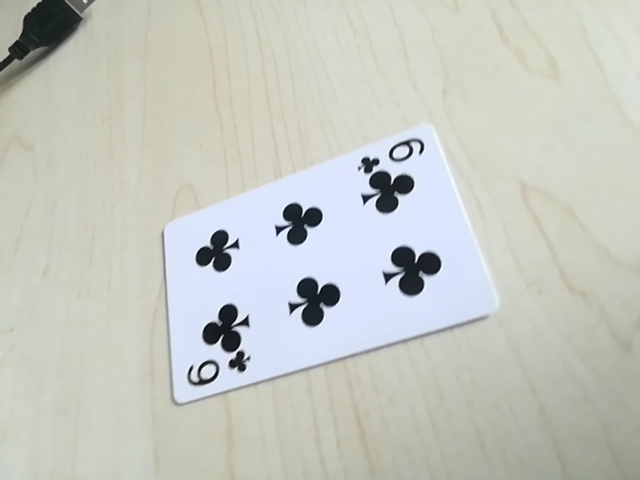mh 6: (180, 350, 249, 394), (357, 136, 429, 173)
